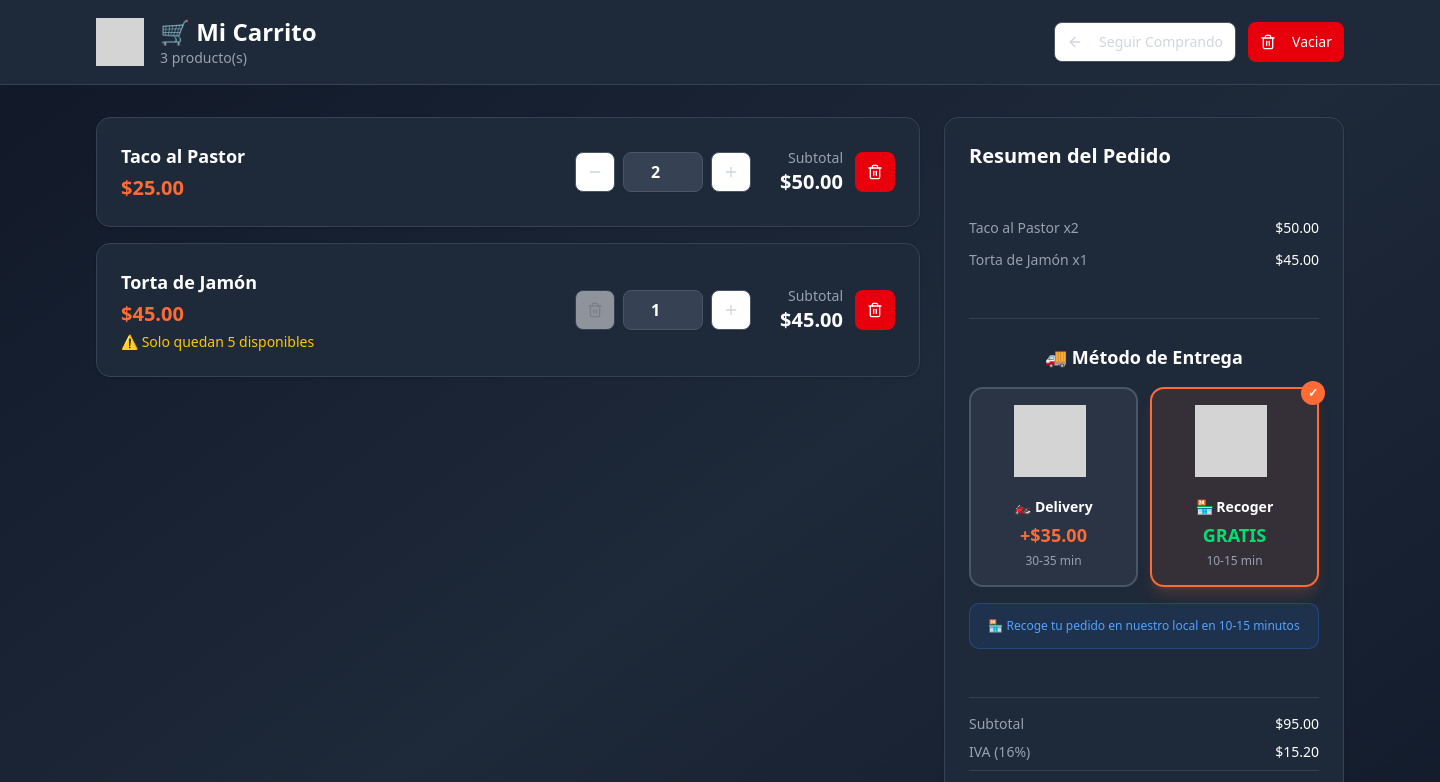
Scenario: CartPage Component › Order Summary › should calculate total with delivery
The width and height of the screenshot is (1440, 782).
Expected: the heading "Taco al Pastor" is shown, [121,144,245,168]
Click the button "🏍️ Delivery +$35.00 30-35 min" at (1054, 487), box [969,387,1138,587]
(page scrolled)
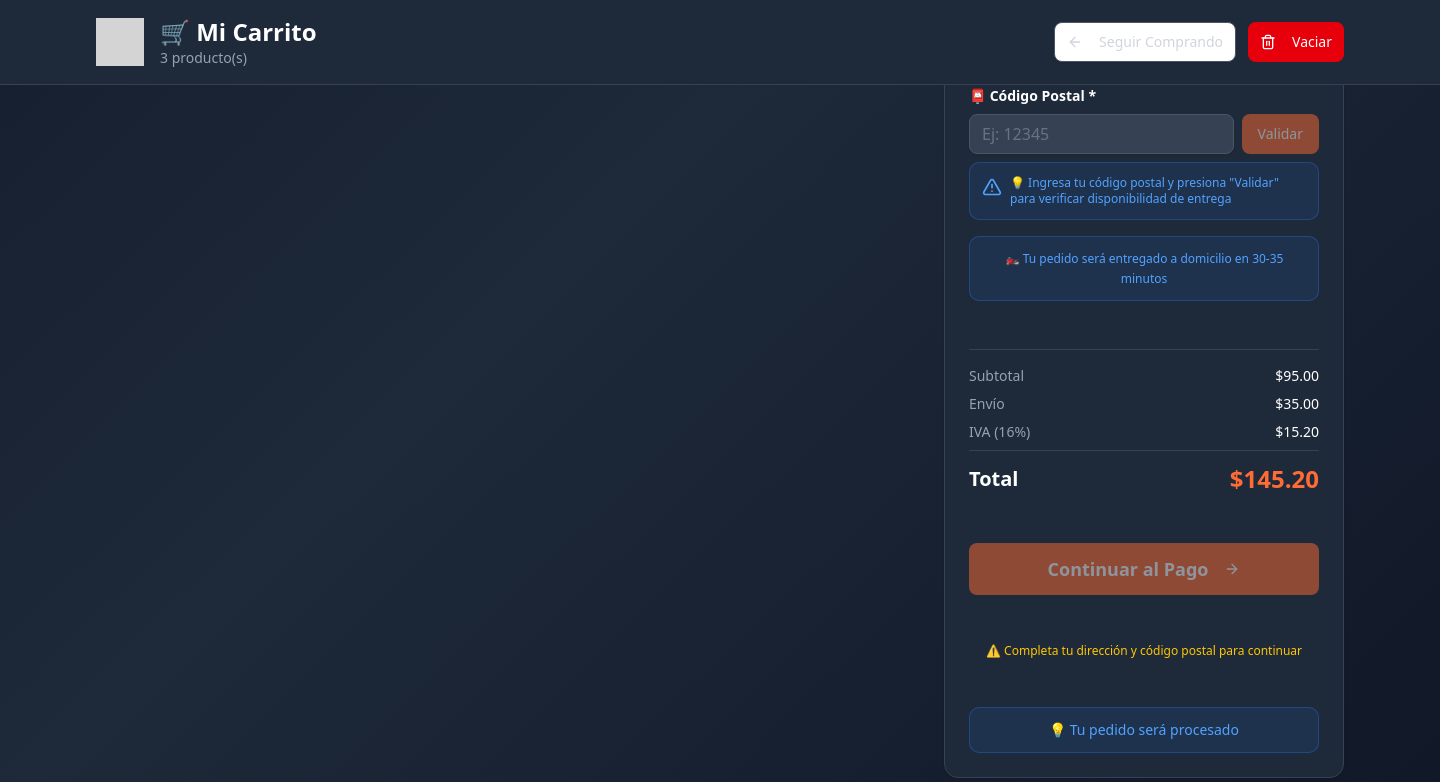
Now the text "$145.20" is shown, box [1230,463,1319,495]
